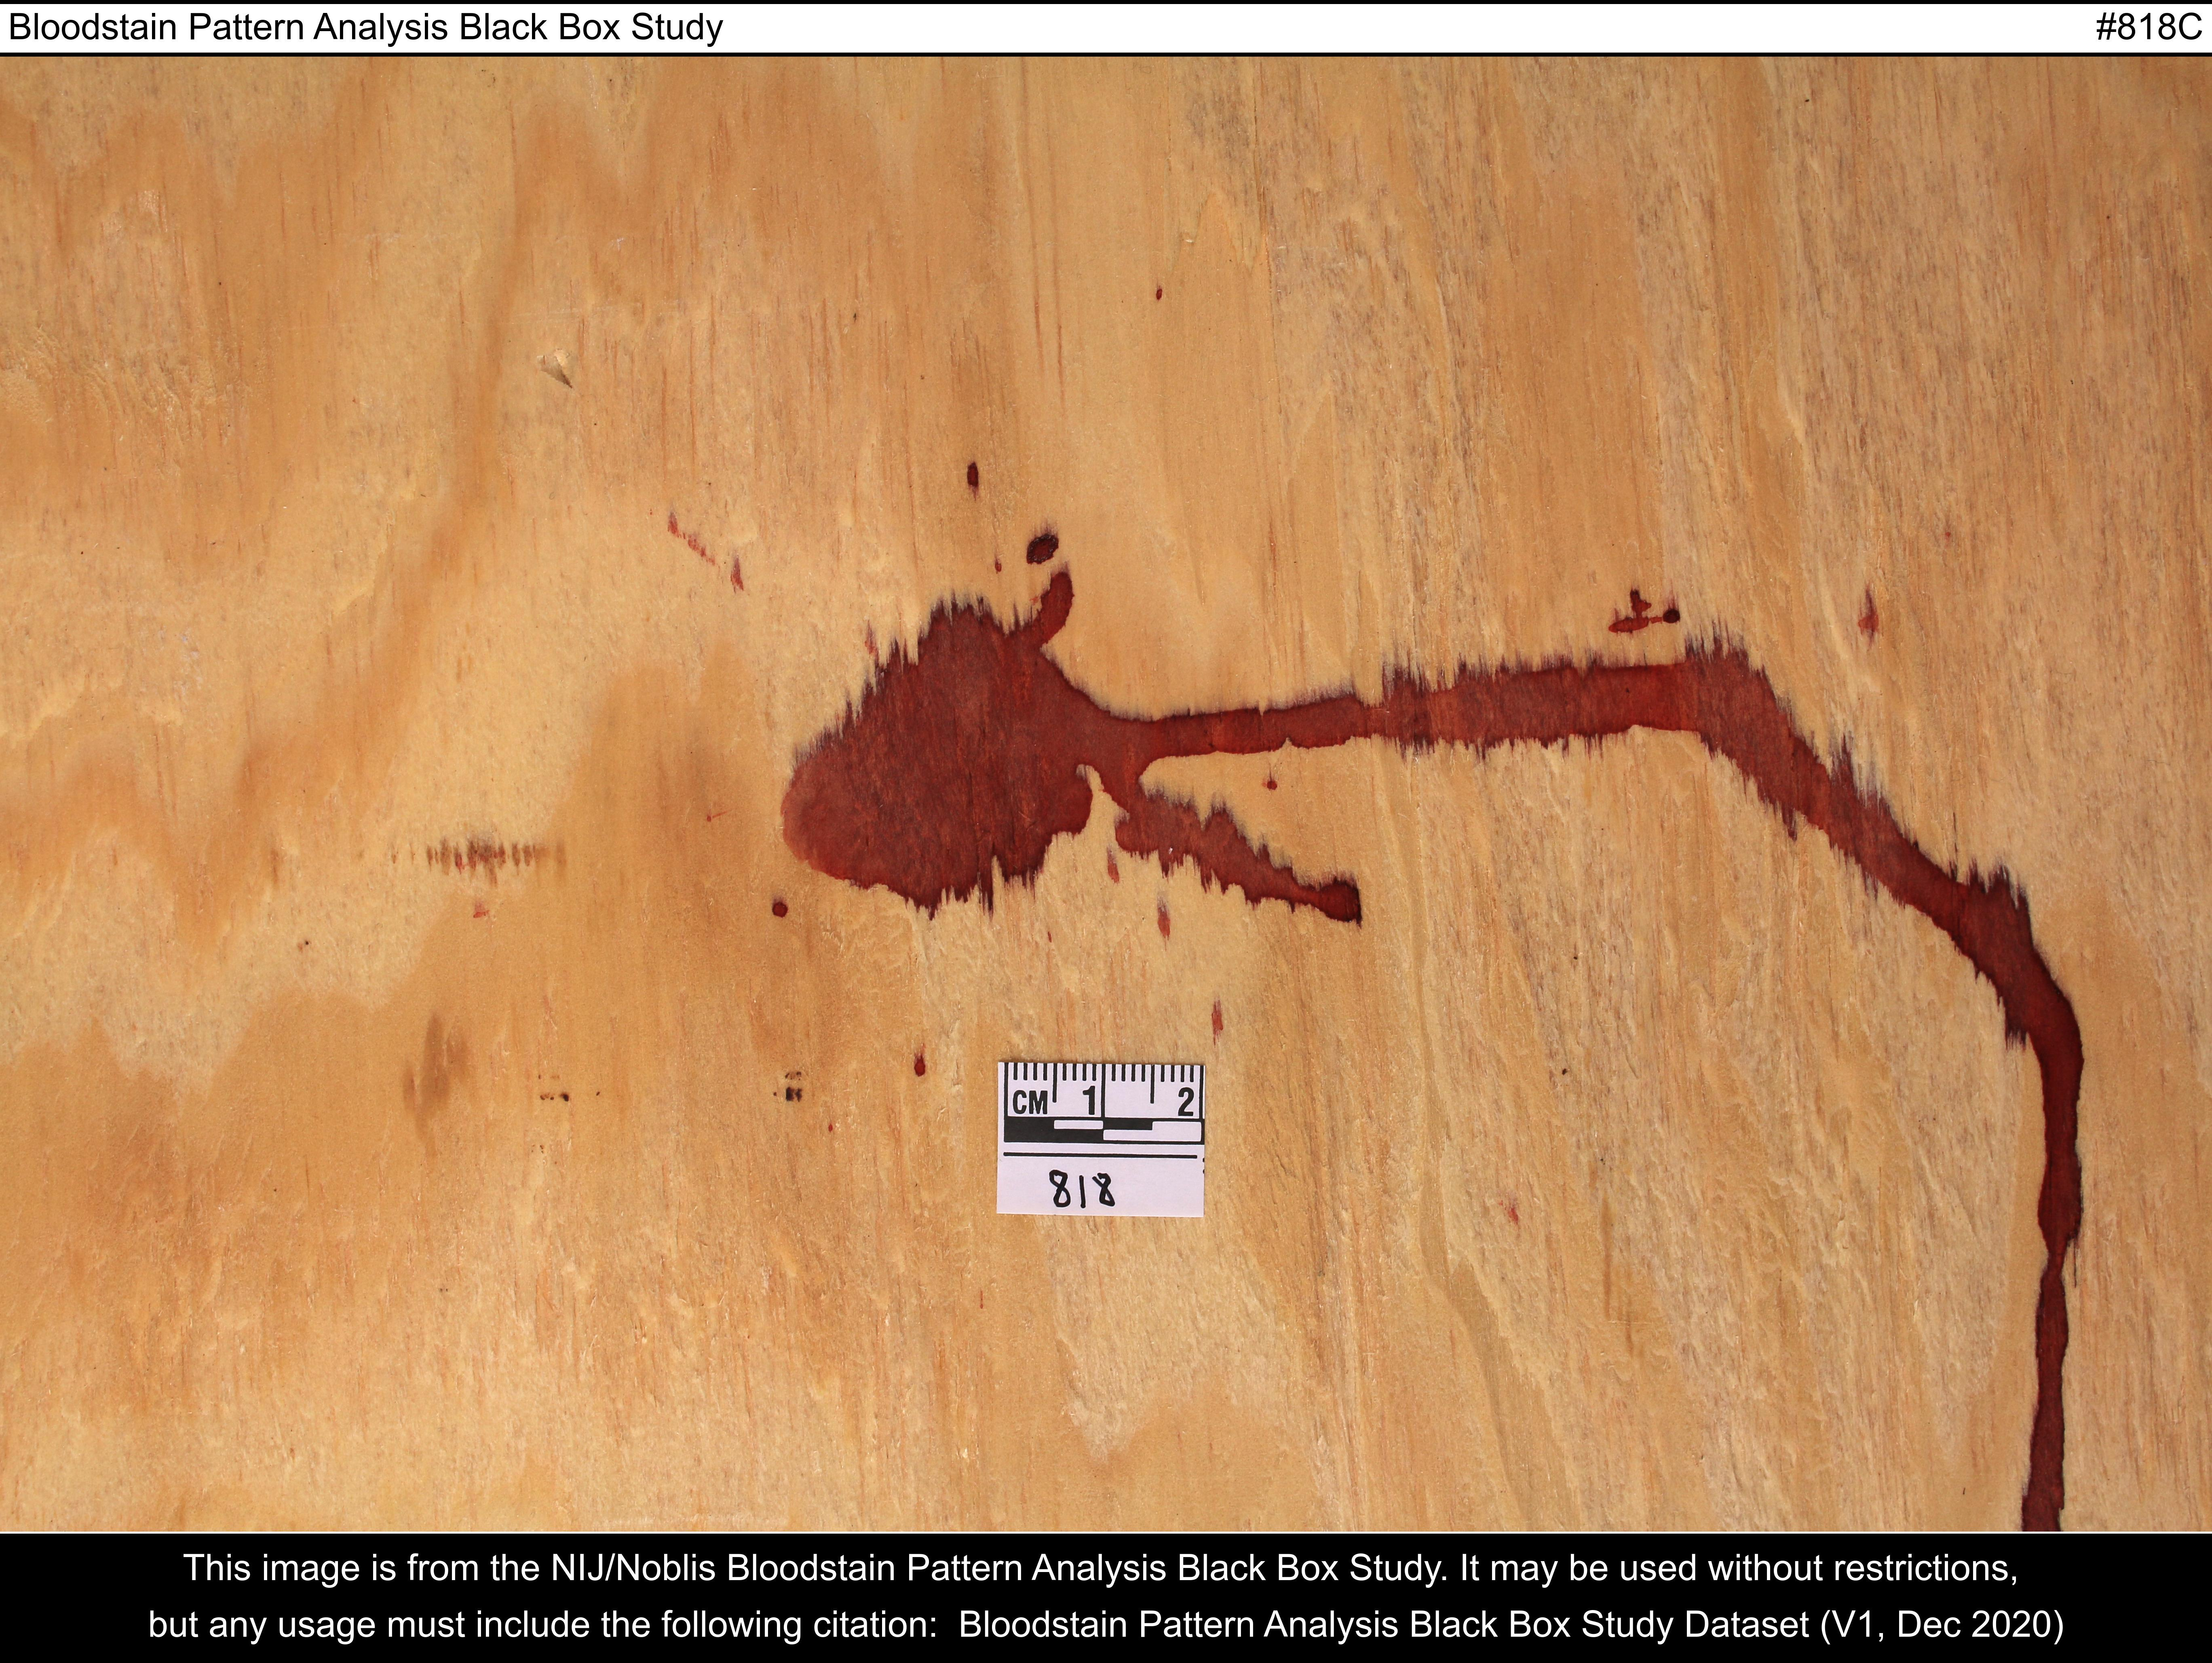Passive: (454, 349, 2212, 1532)
